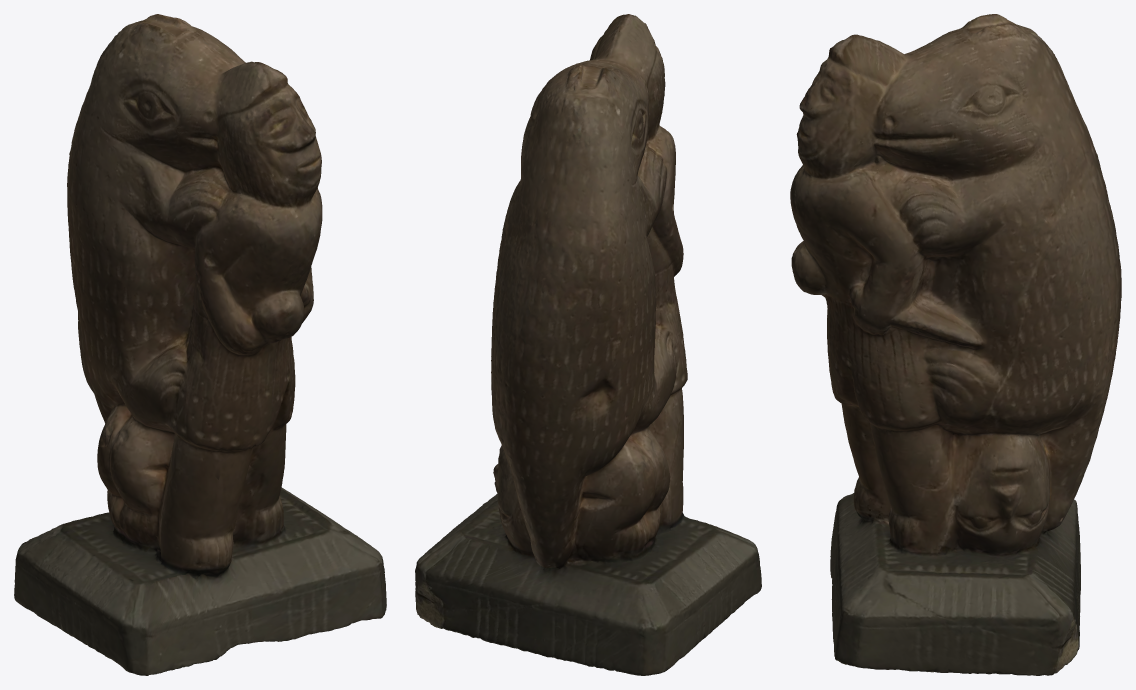
File: preview.glb
3 renders of one model, left to right at view 1: azimuth 30°, elevation 25°; view 2: azimuth 150°, elevation 25°; view 3: azimuth 270°, elevation 25°, orthographic. The views are drawn at different scales.
Visible parts, largest first — view 1: Object_2; view 2: Object_2; view 3: Object_2.
Part boxes in pixels (x1,y1,x2,y2): Object_2: (14,14,386,675); Object_2: (415,14,761,675); Object_2: (790,14,1121,675).
Size of the model in its own units: 1.37 by 2.83 by 1.46.
Materials: 1 (1 with a texture image).
